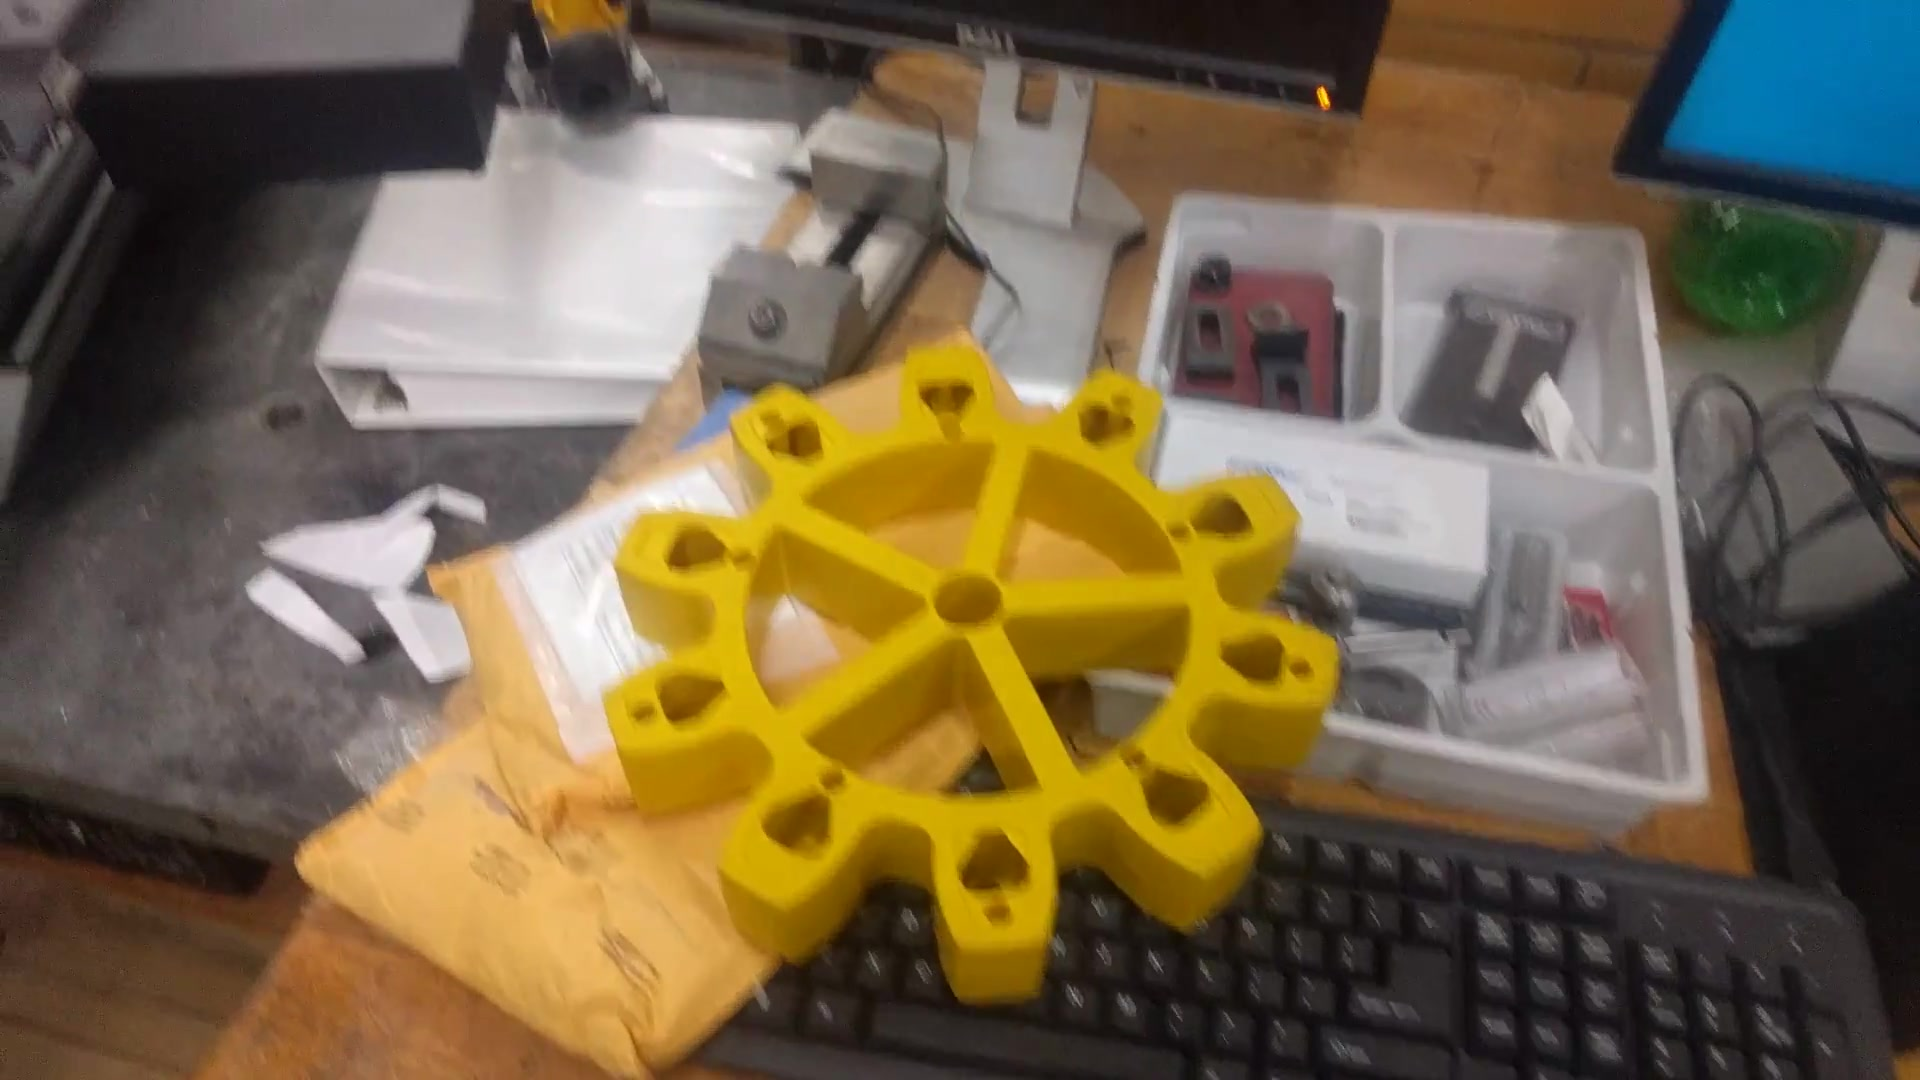gear: (555, 293, 1377, 996)
